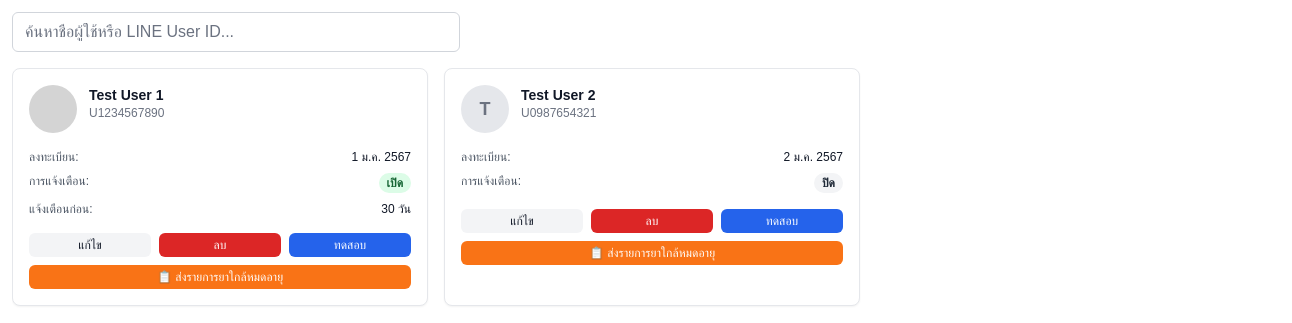
Test: LineUserList › Test Notification (Requirements 5.1, 5.3, 5.4) › should show error toast when test notification fails (Requirement 5.4)
Click the button "ทดสอบ" below "แจ้งเตือนก่อน:" at (350, 245), box [289,233,411,257]
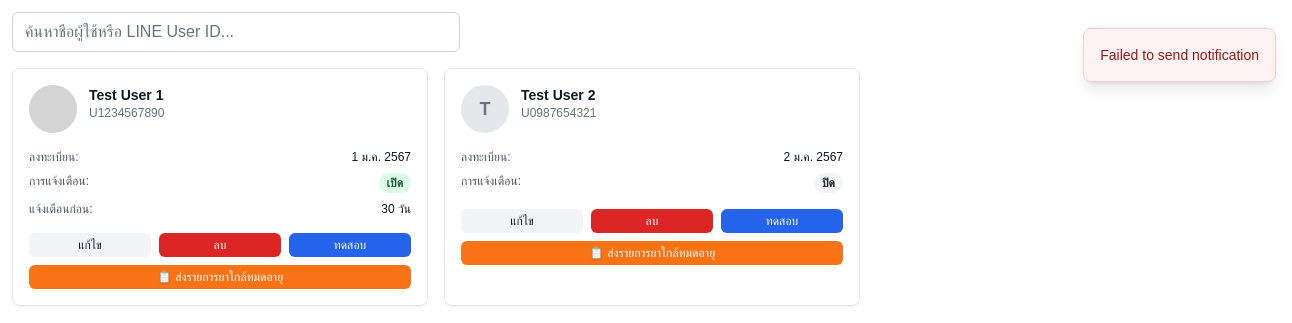
Expected: the text "Failed to send notification" is shown, [1100,45,1259,65]
